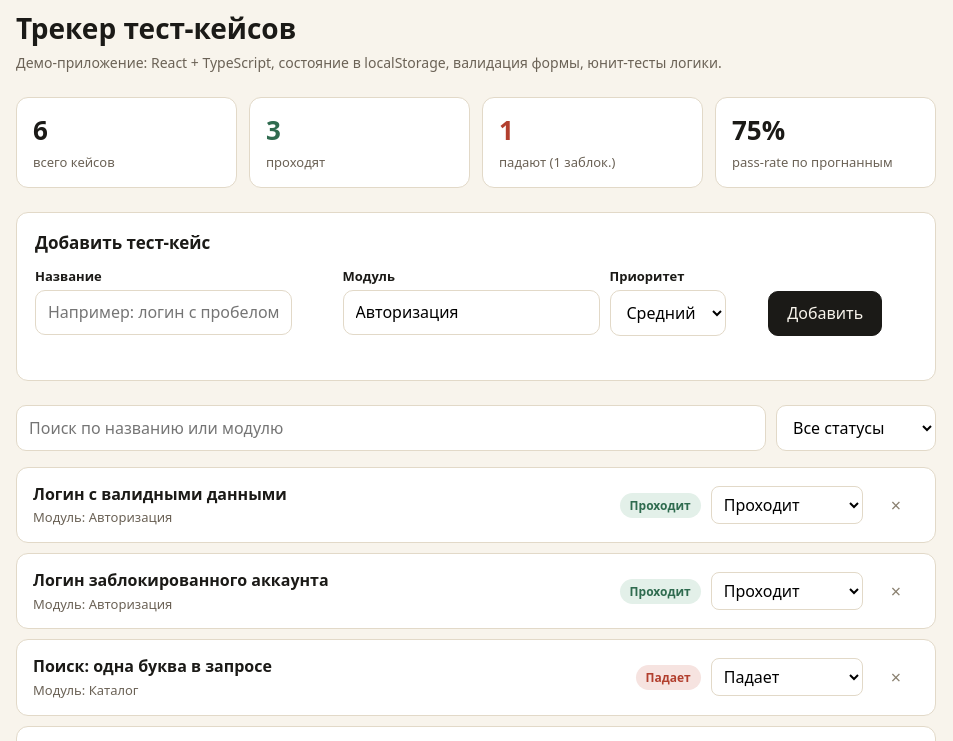
Test: Форма добавления › добавляет валидный кейс в начало списка как черновик
Type "Чекаут: таймаут оплаты" into the field labelled "Название". click: (164, 313)
box: [35,290,292,336]
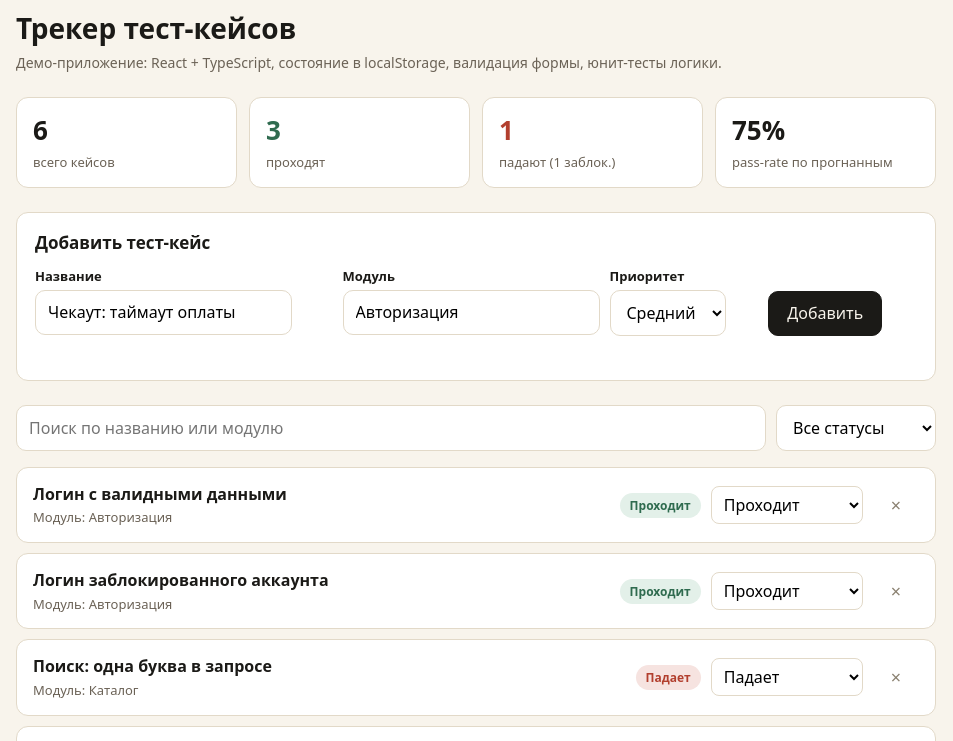
Click the button "Добавить". click: (825, 314)
box: [768,291,882,336]
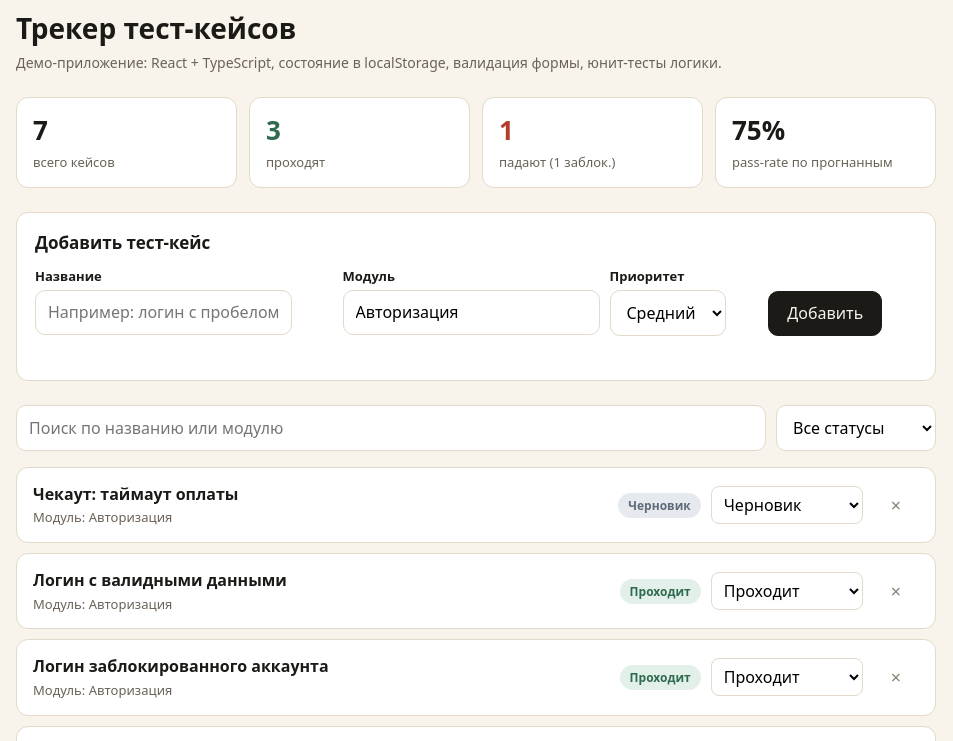
Expected: the text "Чекаут: таймаут оплаты" is shown, [33,483,238,505]
Expected: the text "Черновик" is shown, [618,493,701,518]
